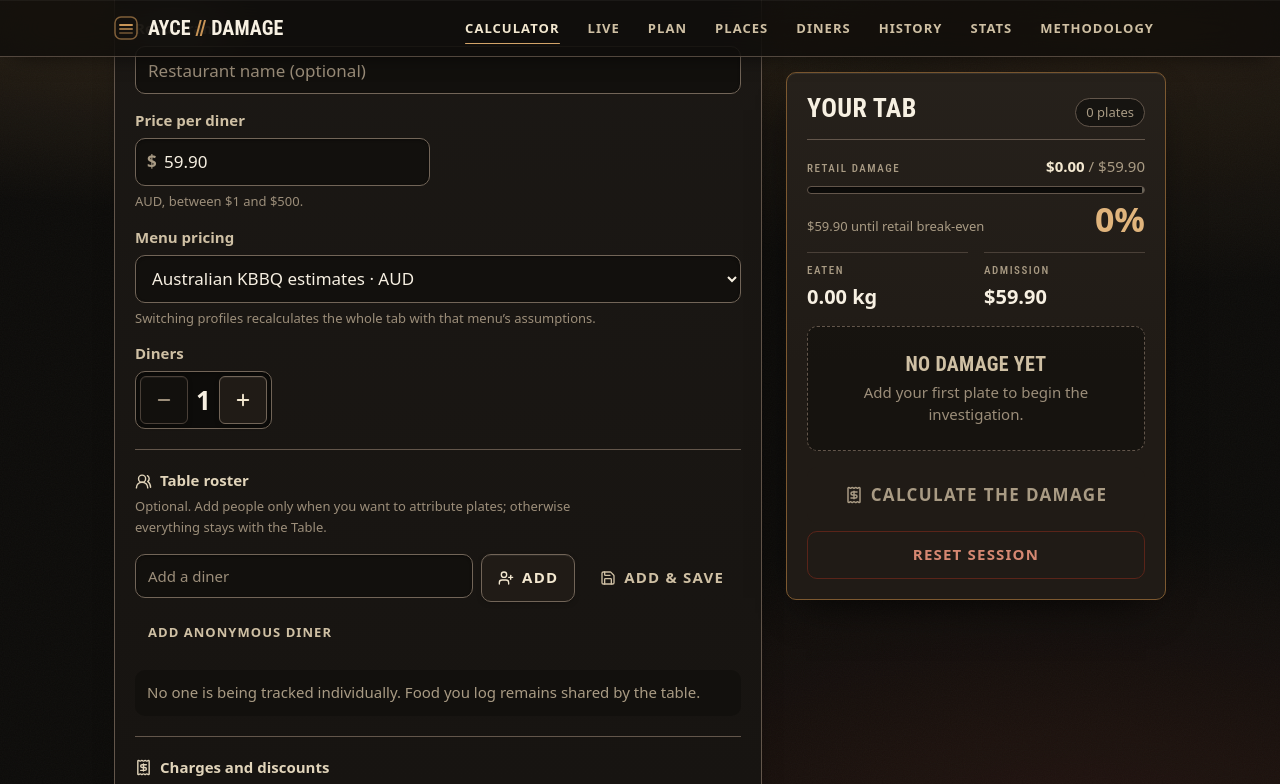
it: CalculatorApp › reflects session configuration in total admission
The width and height of the screenshot is (1280, 784).
(page scrolled)
Click the button named "add a diner": (243, 400) top-left (219, 376), bottom-right (267, 424)
(page scrolled)
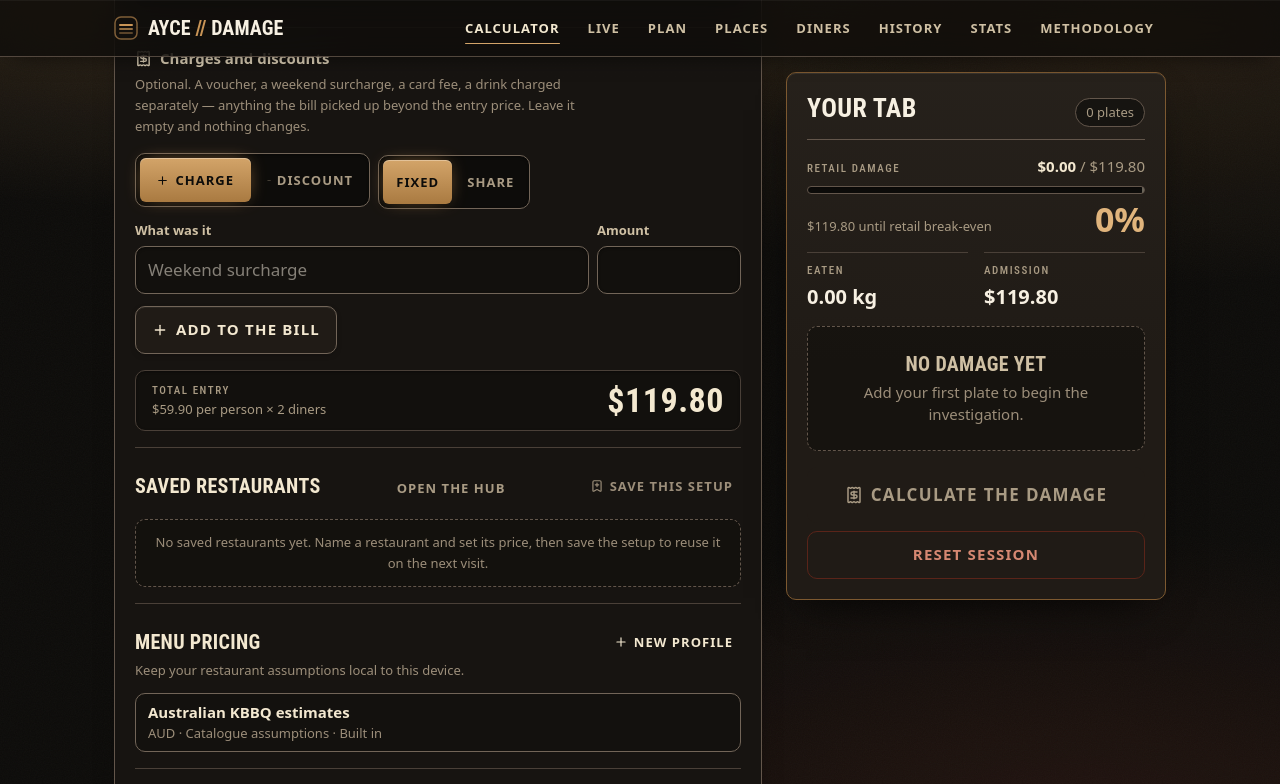
Check: the text "$119.80" in the row of "$59.90 per person × 2 diners" is shown, box top-left (607, 380), bottom-right (724, 420)
